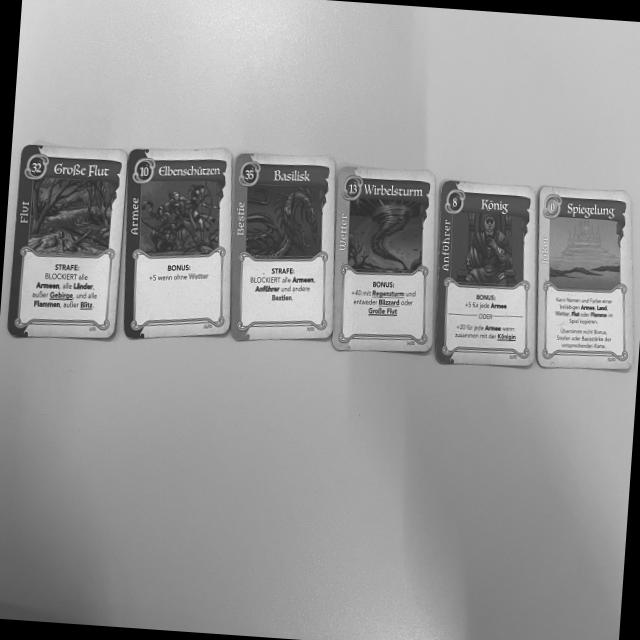Basilisk: (227, 154, 334, 345)
Elven Archers: (122, 138, 232, 339)
Great Flood: (4, 146, 127, 344)
King: (433, 184, 534, 374)
Mirage: (538, 186, 633, 371)
Whirlwind: (330, 165, 436, 355)
